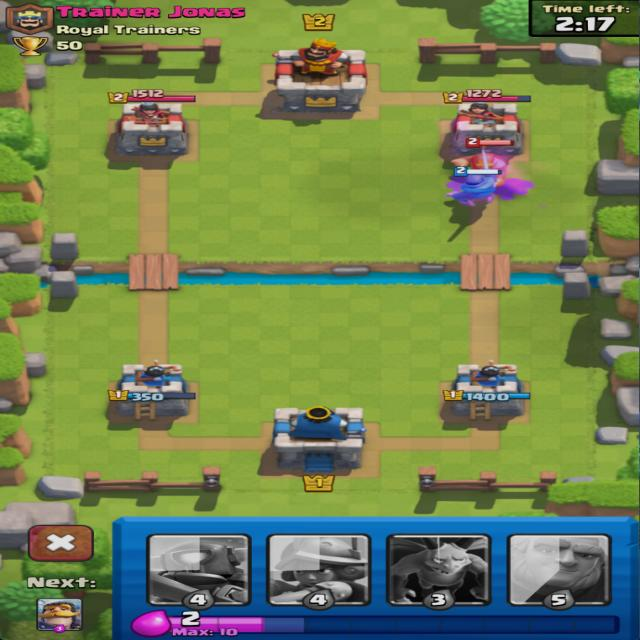Giant_Loading: (507, 534, 612, 611)
Knight_Next: (26, 577, 98, 633)
Knight_Troop: (452, 176, 502, 206), (455, 152, 510, 177)
Mini_Pekka_Loading: (146, 534, 251, 612)
Minions_Loading: (386, 535, 493, 612)
Musketeer_Loading: (267, 534, 371, 613)
